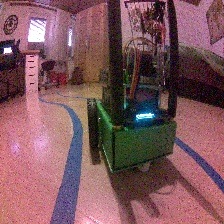rob: (85, 48, 177, 175)
